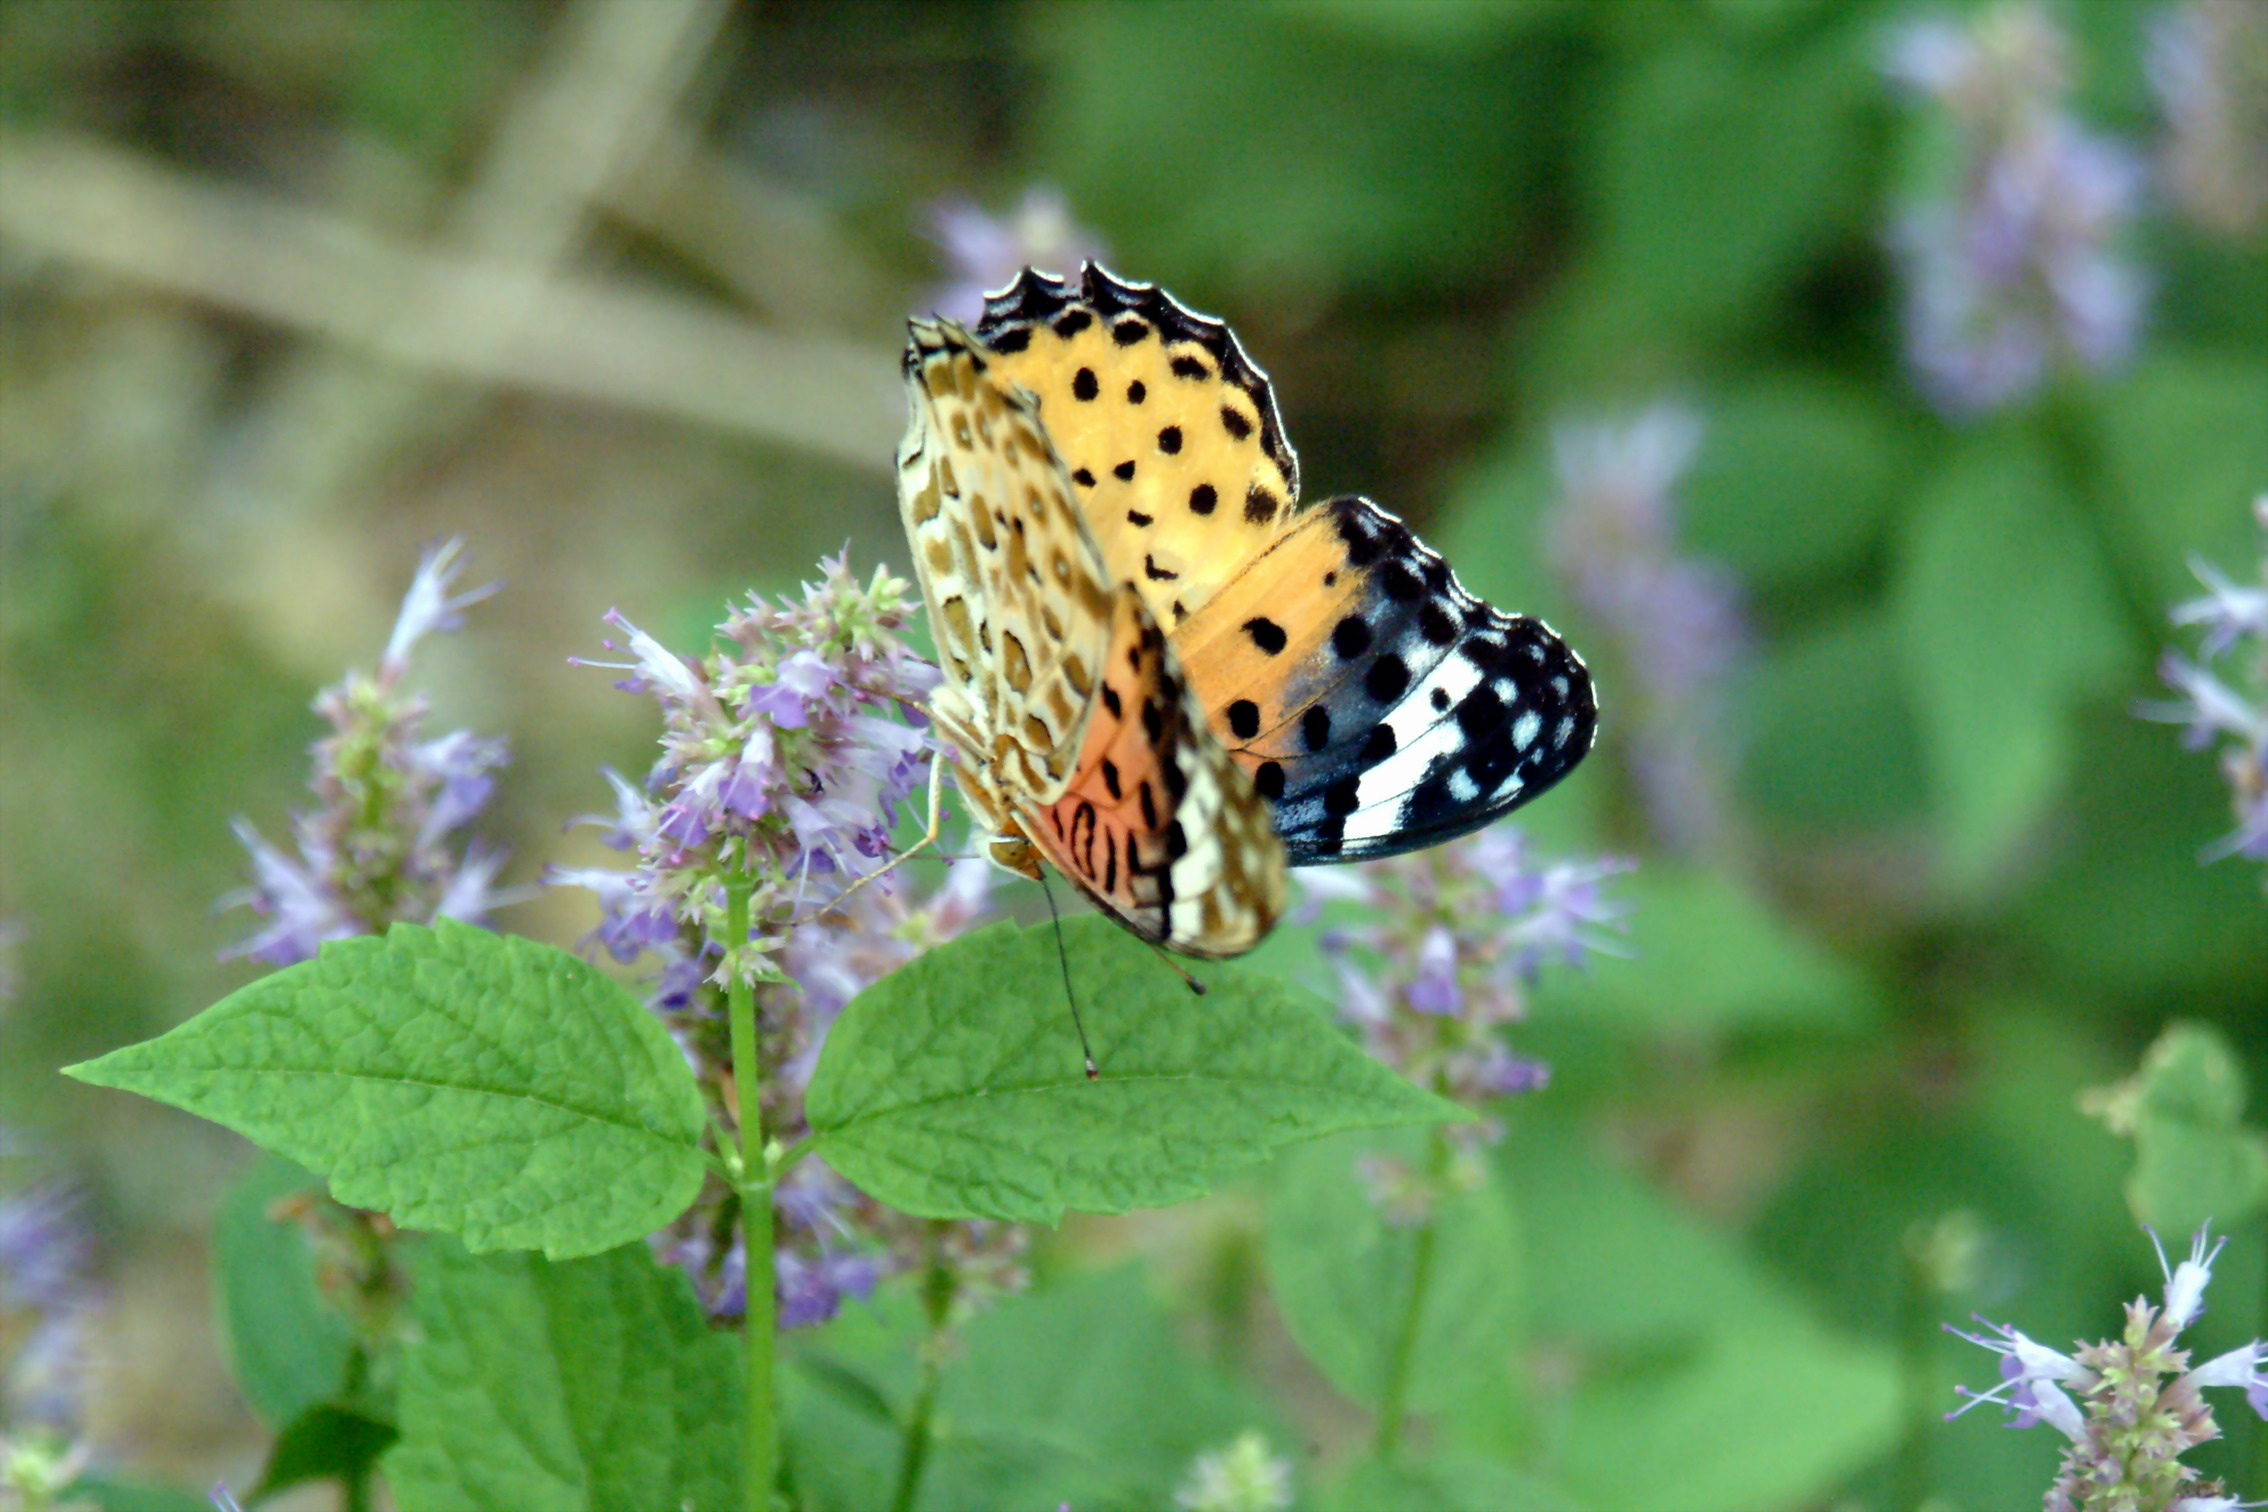Argyreus hyperbius: (844, 258, 1640, 1082)
butterfly: (845, 260, 1642, 1083)
